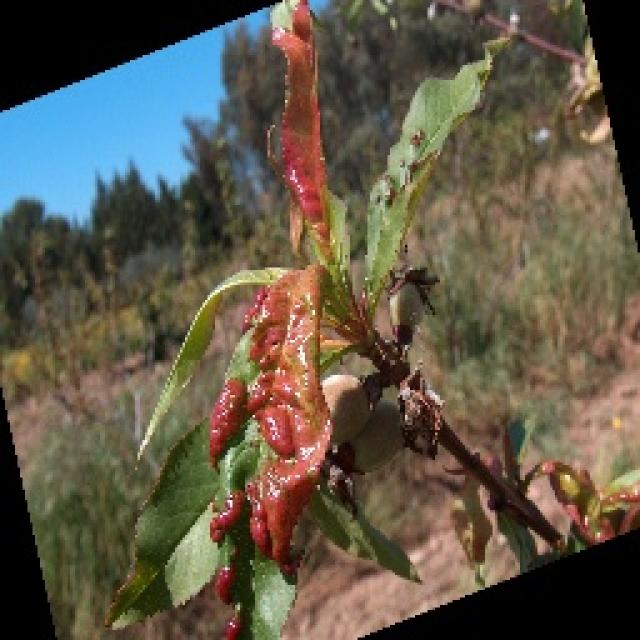peach_leaf_curl: (203, 260, 335, 638)
